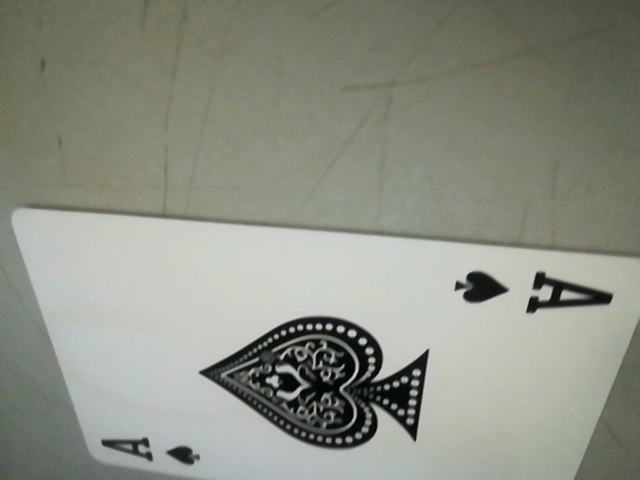ht a: (442, 259, 632, 317), (86, 427, 225, 479)
